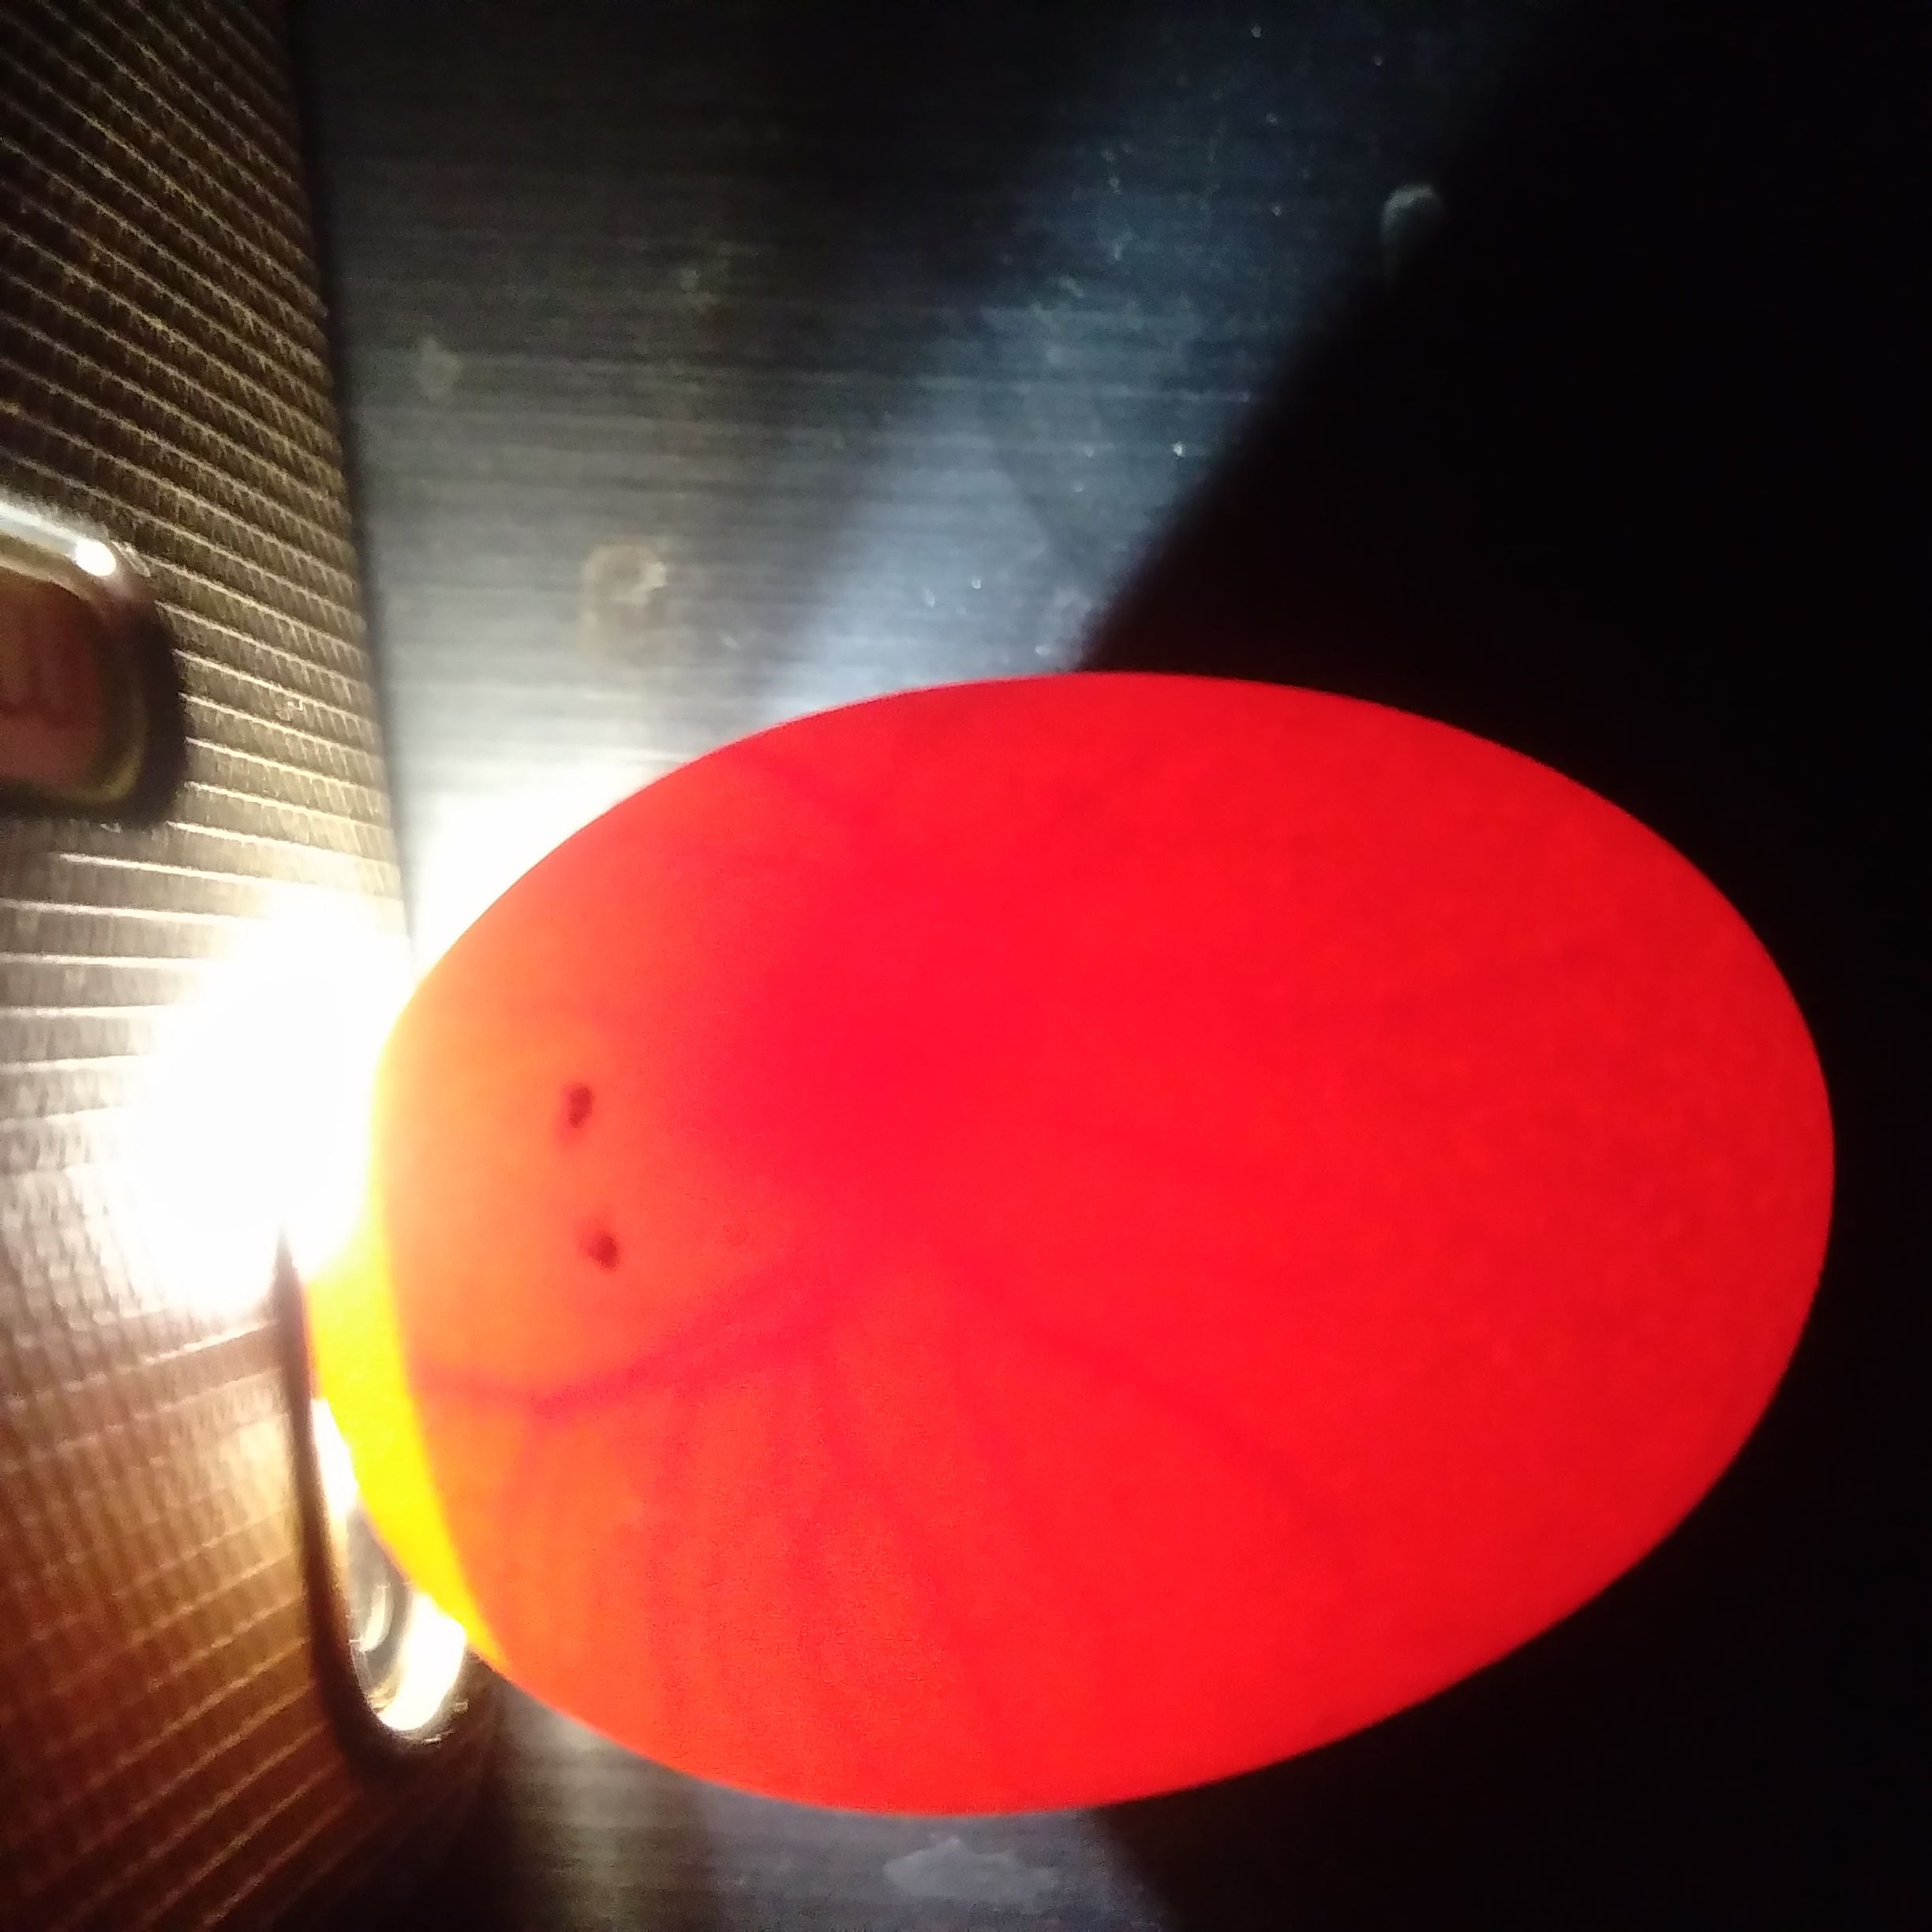bloodcell: (458, 1327, 1352, 1629)
